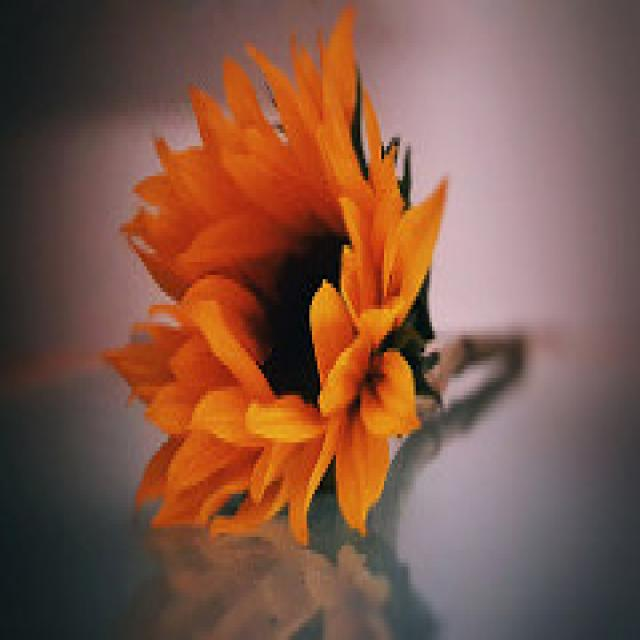sunflower: (97, 2, 455, 556)
